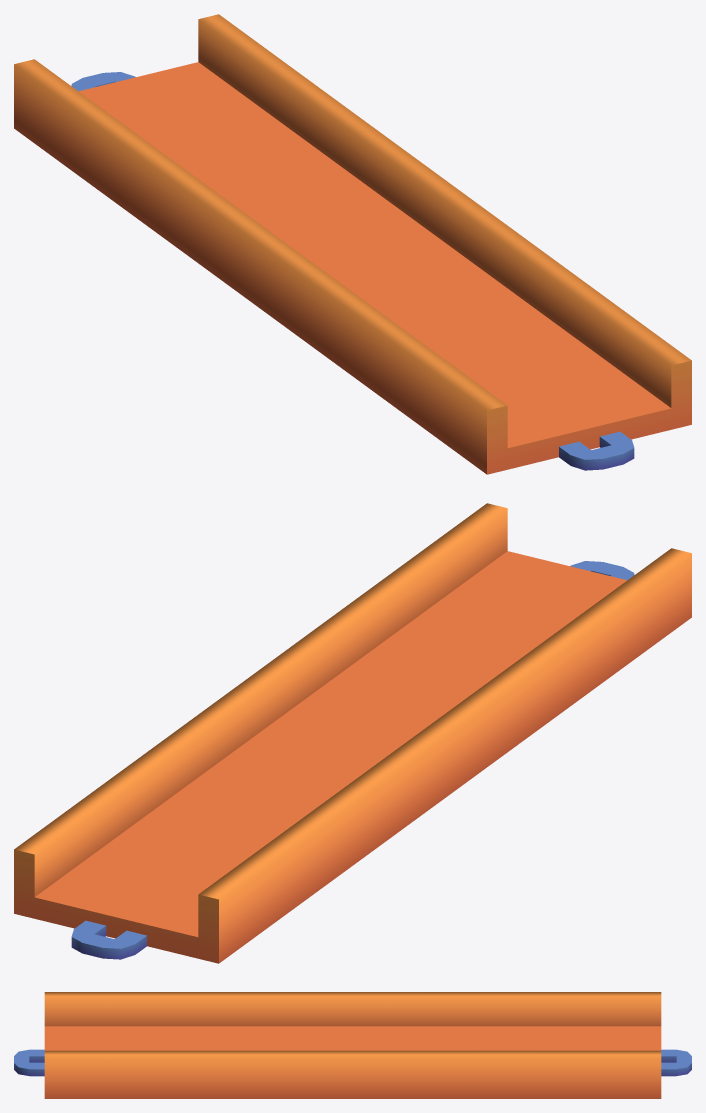
File: kenney-toy-car-track-narrow-straight.glb
3 views of the same model, one above another, from view 1: azimuth 30°, elevation 25°; view 2: azimuth 150°, elevation 25°; view 3: azimuth 270°, elevation 25° (orthographic). The views are drawn at different scales.
Parts seen in each view (by area): view 1: track-narrow-straight; view 2: track-narrow-straight; view 3: track-narrow-straight.
Boxes of the visible parts, x1,y1,x2,y2 form: track-narrow-straight: (14, 14, 691, 474); track-narrow-straight: (14, 503, 691, 963); track-narrow-straight: (14, 992, 691, 1098).
Bounding box in the file's own units: 1 × 0.2997 × 4.4.
Materials: 1 (1 with a texture image).
